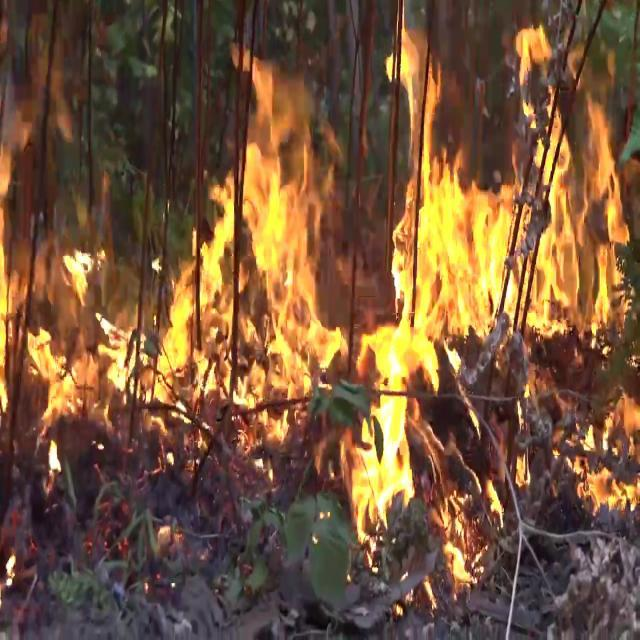Fire: (344, 8, 640, 572), (1, 56, 351, 497)
